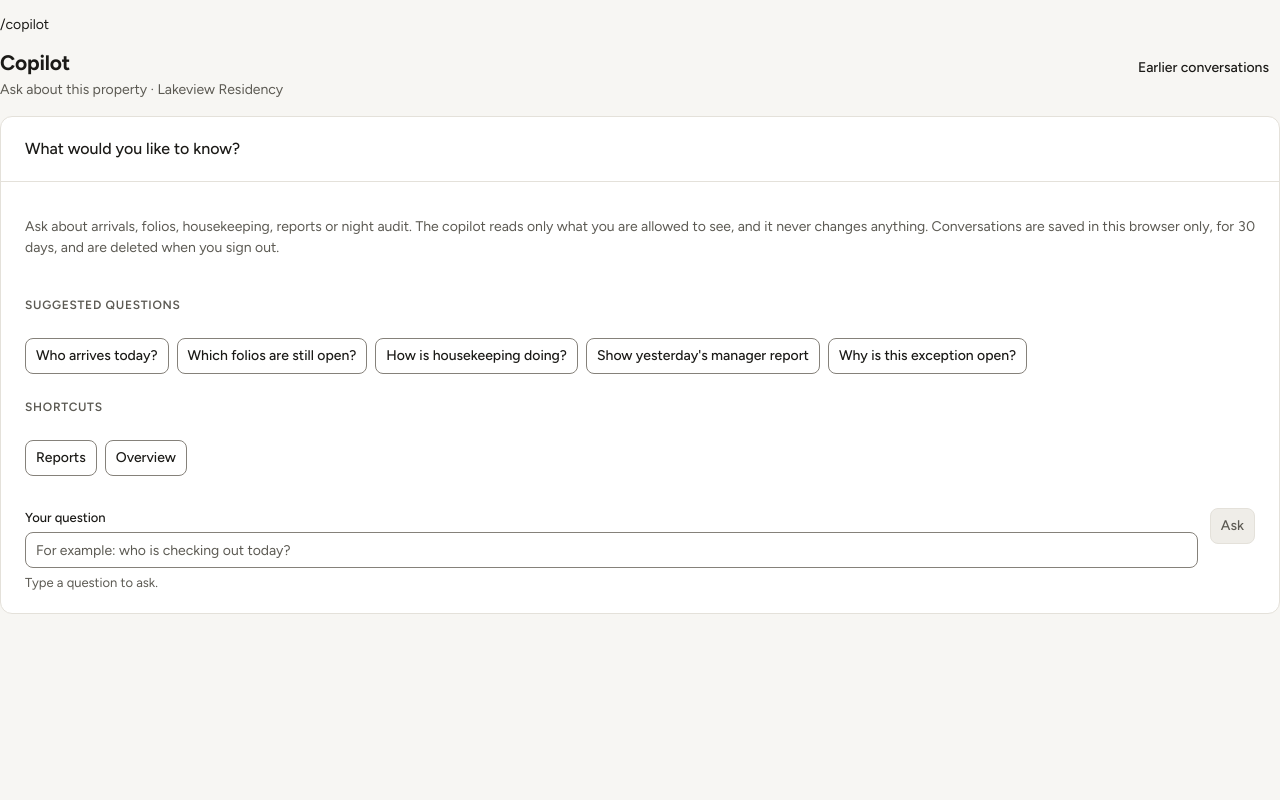
Scenario: CopilotScreen (R4.16) › deletes one saved conversation only after confirming
Click the button with test id "copilot-history-open".
click(1203, 67)  # box top-left (1127, 49), bottom-right (1279, 85)
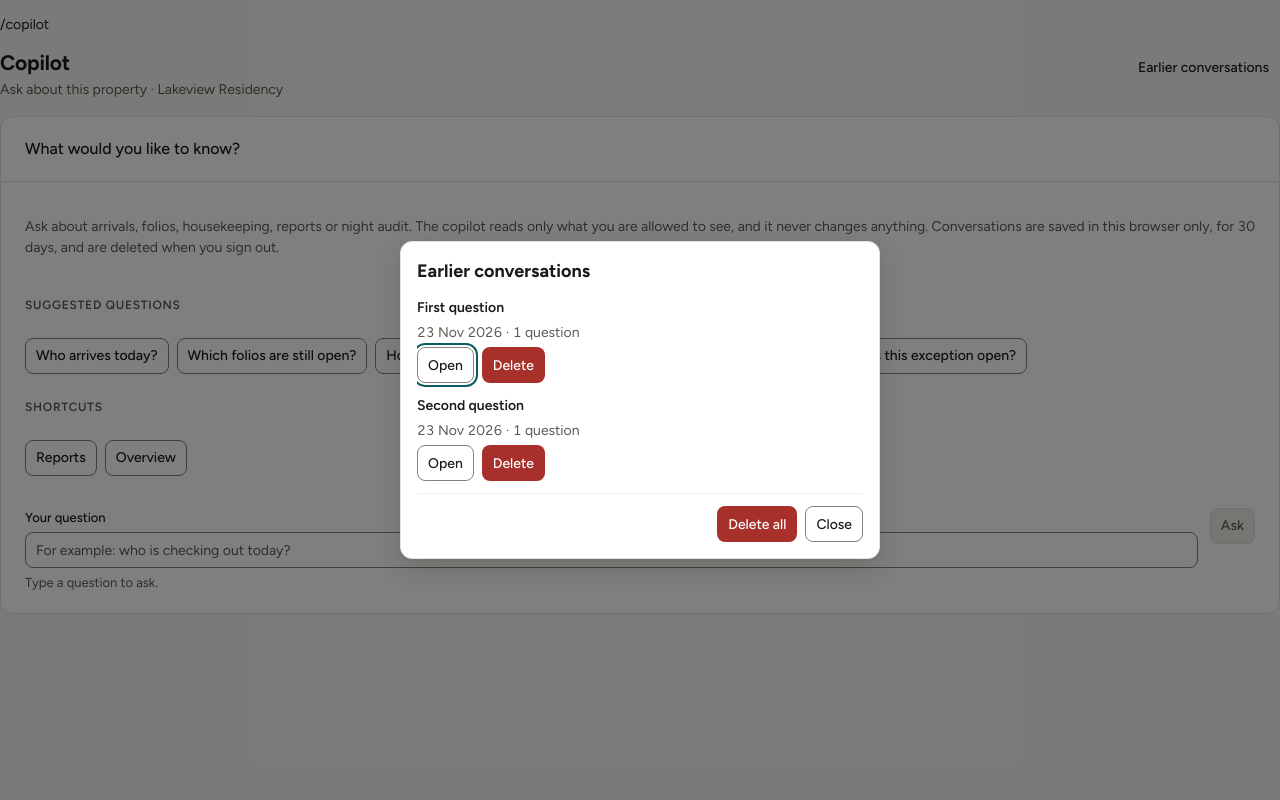
Click the button "Delete" below "First question".
click(513, 365)  # box top-left (482, 347), bottom-right (545, 383)
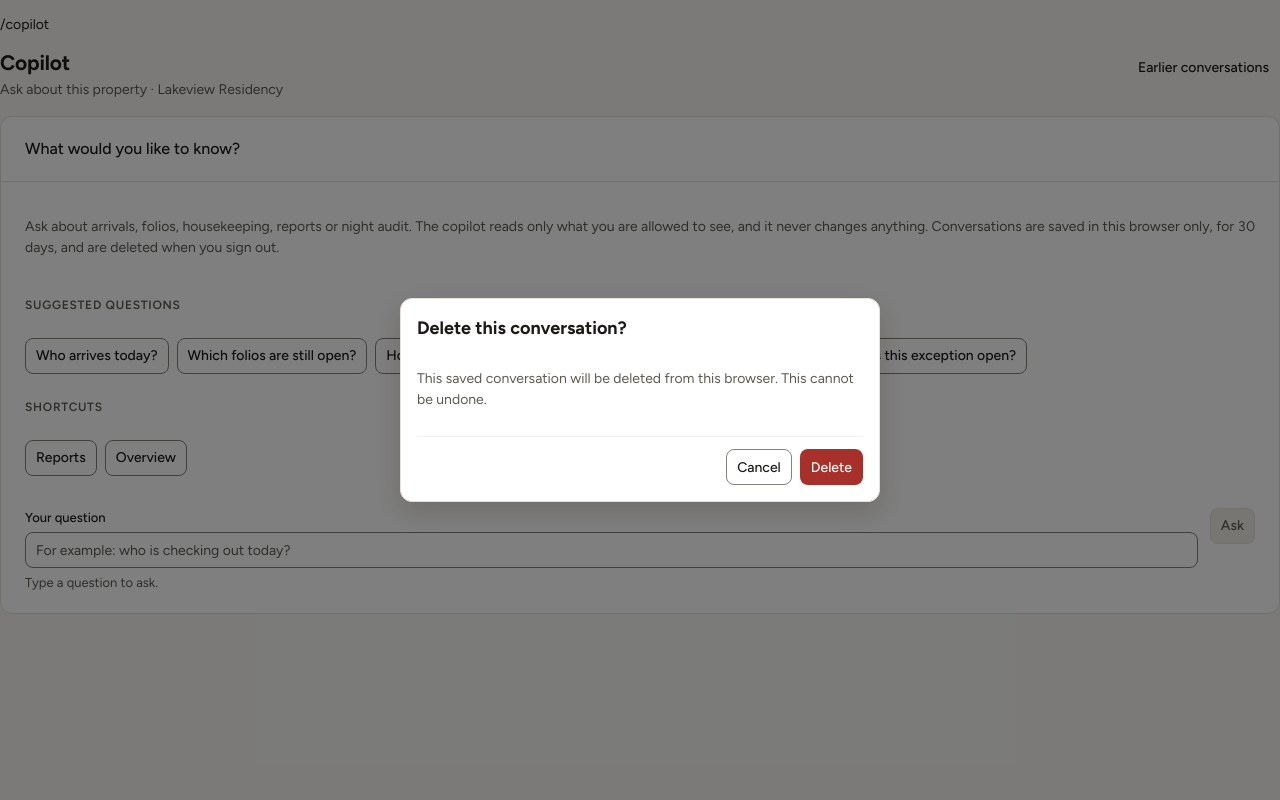
Check: the heading "Delete this conversation?" is shown, box top-left (417, 315), bottom-right (627, 342)
Click the button "Cancel".
click(759, 467)  # box top-left (726, 449), bottom-right (792, 485)
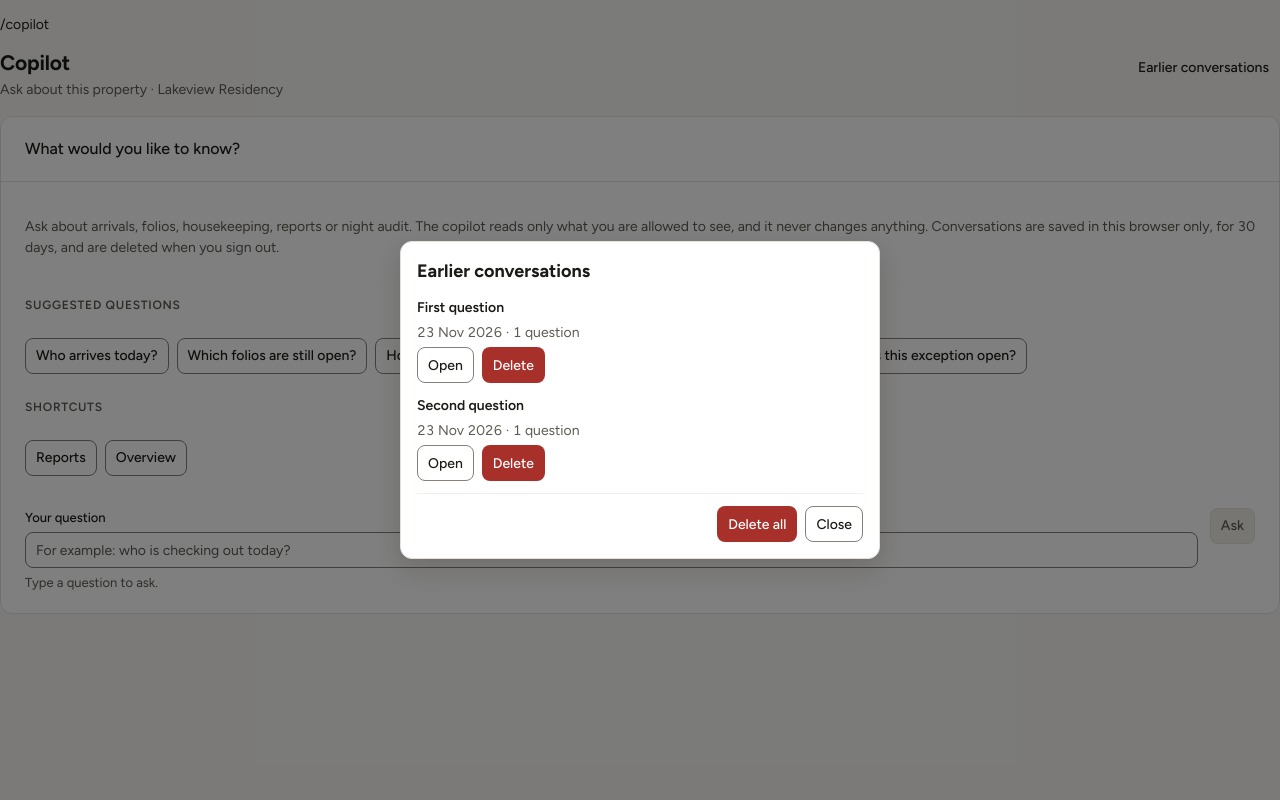
Check: the number of list items with test id "copilot-history-row" is 2, box top-left (417, 299), bottom-right (580, 383); top-left (417, 397), bottom-right (580, 481)
Click the button "Delete" below "First question".
click(513, 365)  # box top-left (482, 347), bottom-right (545, 383)
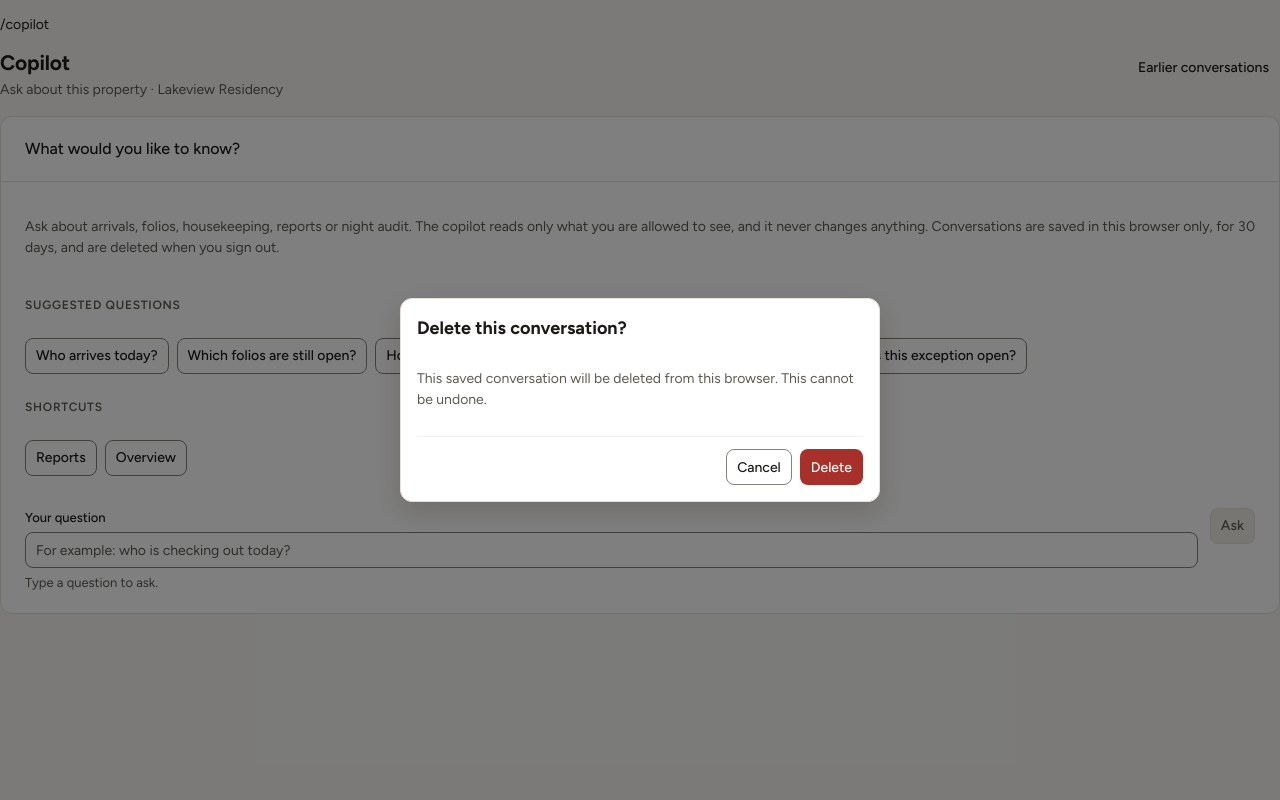
Click the button with test id "copilot-history-confirm".
click(831, 467)  # box top-left (800, 449), bottom-right (863, 485)
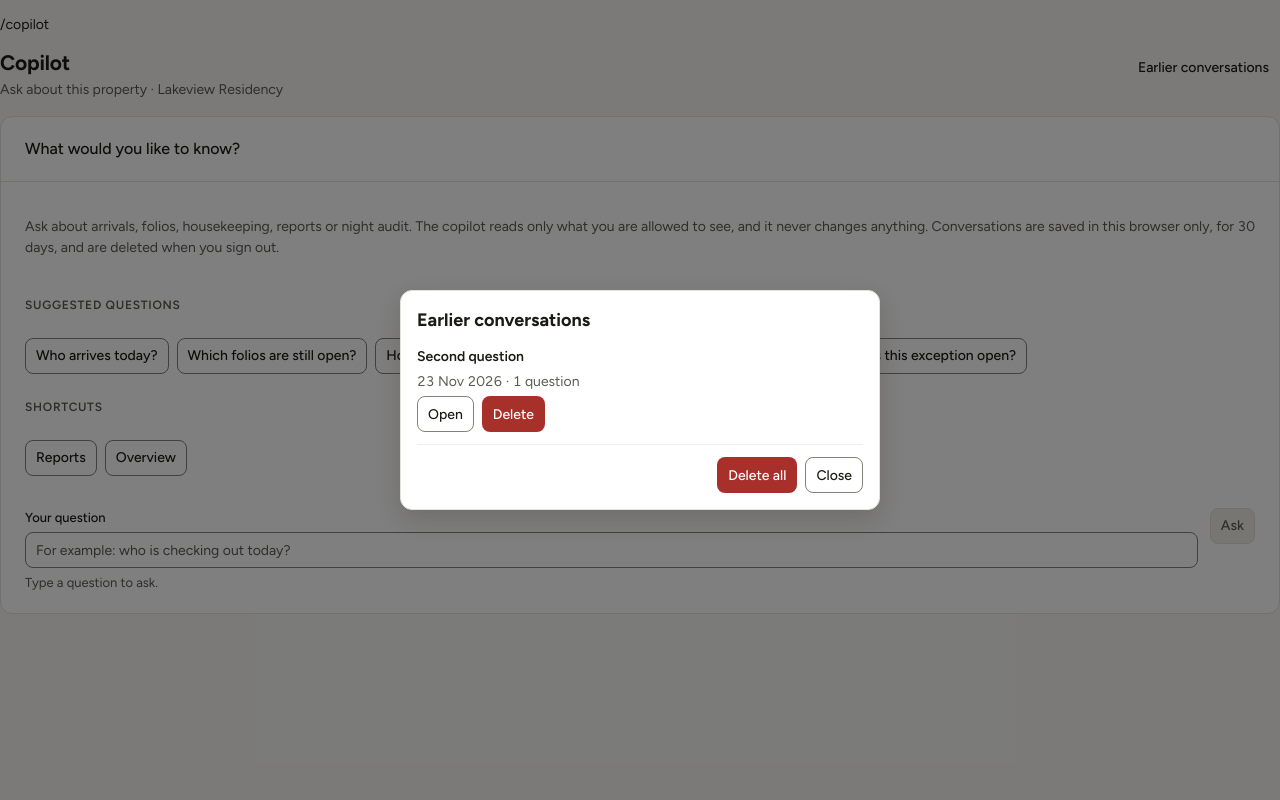
Check: the number of list items with test id "copilot-history-row" is 1, box top-left (417, 348), bottom-right (580, 432)
